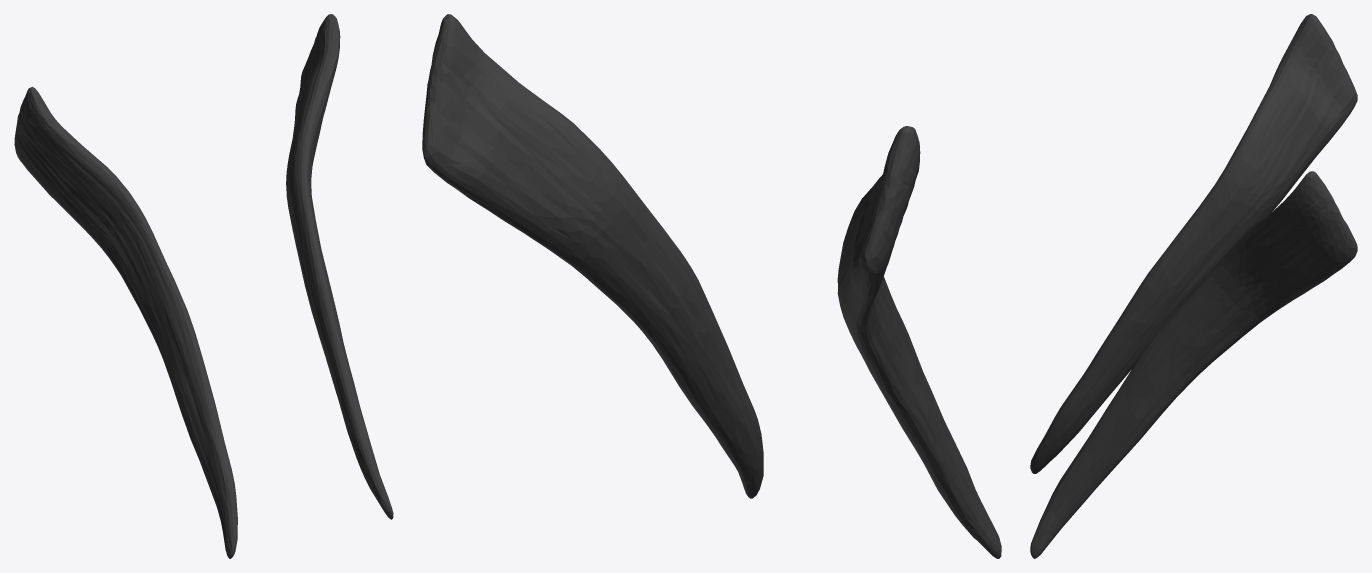
File: m_omotransversarius.glb
3 renders of one model, left to right at view 1: azimuth 30°, elevation 25°; view 2: azimuth 150°, elevation 25°; view 3: azimuth 270°, elevation 25°, orthographic. The views are drawn at different scales.
Parts seen in each view (by area): view 1: m_omotransversarius; view 2: m_omotransversarius; view 3: m_omotransversarius.
Boxes of the visible parts, box(x1,y1,x2,y2) form: m_omotransversarius: box(14, 14, 393, 558); m_omotransversarius: box(422, 14, 1001, 558); m_omotransversarius: box(1030, 14, 1357, 558).
Size of the model in its own units: 0.00427 by 0.00517 by 0.00362.
1 material, 1 textured.
